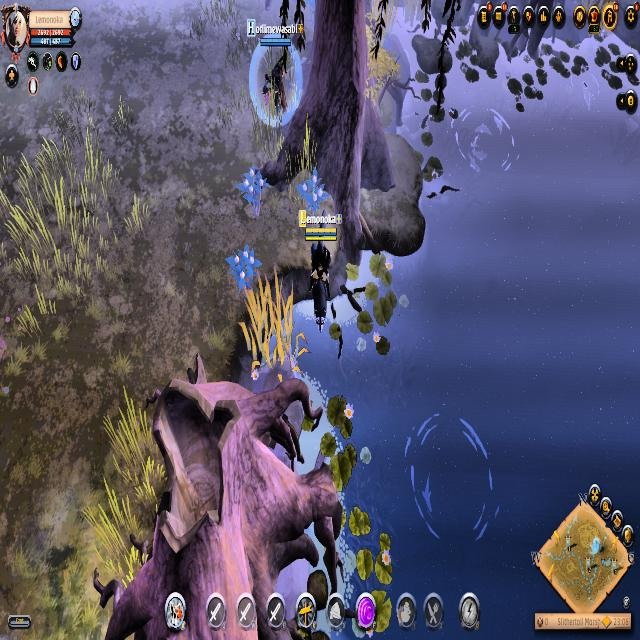fiber tier 4: (226, 245, 262, 296), (237, 163, 270, 216), (299, 170, 330, 216)
fish: (403, 400, 504, 554), (450, 87, 520, 187)
